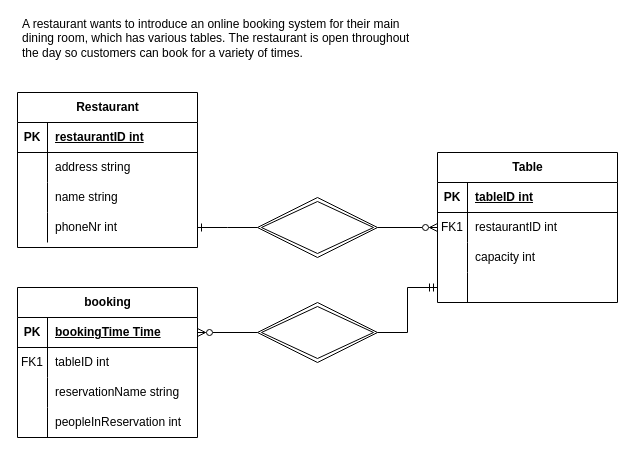
The diagram is 635 pixels wide and 455 high, and some of its shapes have lost their labels. Each missing label, with the centre of its shape:
bookedAt: pixel 317 332
tableAt: pixel 317 227
